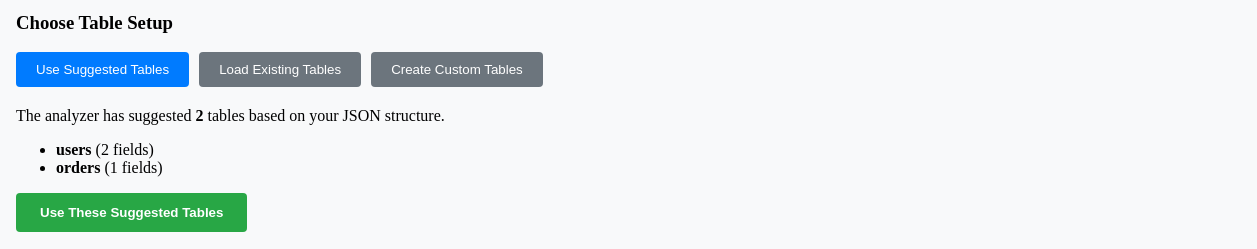
Test: TableSelector › should switch to existing tables mode
Click the button "Load Existing Tables" at (280, 70), box [199,52,361,87]
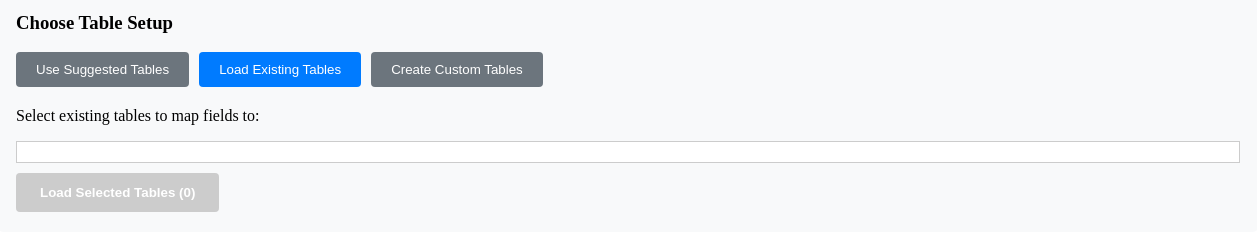
Expected: the text "Select existing tables to map fields to:" is shown, [16,107,260,124]
